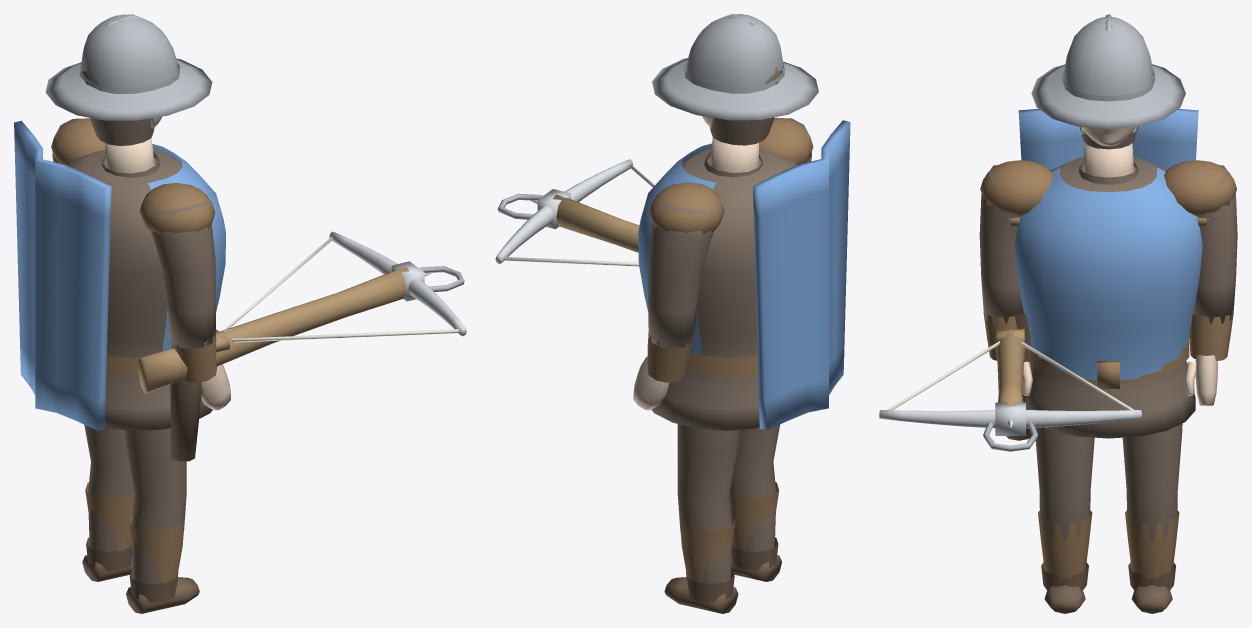
The model's file is crossbowman.glb.
3 renders of one model, left to right at view 1: azimuth 30°, elevation 25°; view 2: azimuth 150°, elevation 25°; view 3: azimuth 270°, elevation 25°, orthographic.
Parts seen in each view (by area): view 1: Back_Pavise, Torso, Helmet, Weapon, Arm_R, Leg_R, Leg_L, Pauldron_R, Crossbow_Prod, Quarrel_Pouch, Vest_Team, Greave_R (+10 smaller); view 2: Back_Pavise, Torso, Helmet, Leg_L, Arm_L, Leg_R, Pauldron_L, Crossbow_Prod, Weapon, Vest_Team, Greave_L, Boot_L (+10 smaller); view 3: Vest_Team, Helmet, Torso, Back_Pavise, Leg_L, Leg_R, Crossbow_Prod, Arm_L, Arm_R, Pauldron_R, Pauldron_L, Greave_L (+14 smaller).
Part boxes in pixels (box(x1,y1,x2,y2)): Back_Pavise: box(14, 120, 111, 430); Torso: box(67, 148, 212, 431); Helmet: box(45, 14, 212, 128); Weapon: box(138, 267, 409, 393); Arm_R: box(151, 201, 215, 348); Leg_R: box(124, 428, 186, 583); Leg_L: box(84, 425, 134, 552); Pauldron_R: box(140, 183, 215, 234); Crossbow_Prod: box(329, 231, 466, 336); Quarrel_Pouch: box(169, 346, 201, 461); Vest_Team: box(99, 144, 226, 351); Greave_R: box(129, 514, 183, 582); Back_Pavise: box(753, 120, 850, 430); Torso: box(651, 148, 796, 430); Helmet: box(652, 14, 818, 128); Leg_L: box(677, 424, 739, 583); Arm_L: box(648, 201, 713, 348); Leg_R: box(730, 424, 779, 551); Pauldron_L: box(649, 182, 724, 234); Crossbow_Prod: box(495, 159, 633, 263); Weapon: box(553, 194, 639, 252); Vest_Team: box(638, 143, 765, 355); Greave_L: box(680, 514, 735, 582); Boot_L: box(664, 569, 738, 613); Vest_Team: box(1014, 167, 1202, 379); Helmet: box(1031, 14, 1185, 133); Torso: box(1025, 157, 1195, 438); Back_Pavise: box(1018, 109, 1198, 169); Leg_L: box(1122, 423, 1182, 571); Leg_R: box(1035, 427, 1094, 571); Crossbow_Prod: box(879, 402, 1141, 435); Arm_L: box(1193, 165, 1237, 324); Arm_R: box(979, 165, 1023, 324); Pauldron_R: box(980, 160, 1053, 226); Pauldron_L: box(1164, 160, 1236, 226); Greave_L: box(1125, 510, 1179, 578).
Bounding box in the file's own units: 0.7957 × 1.17 × 0.6581.
